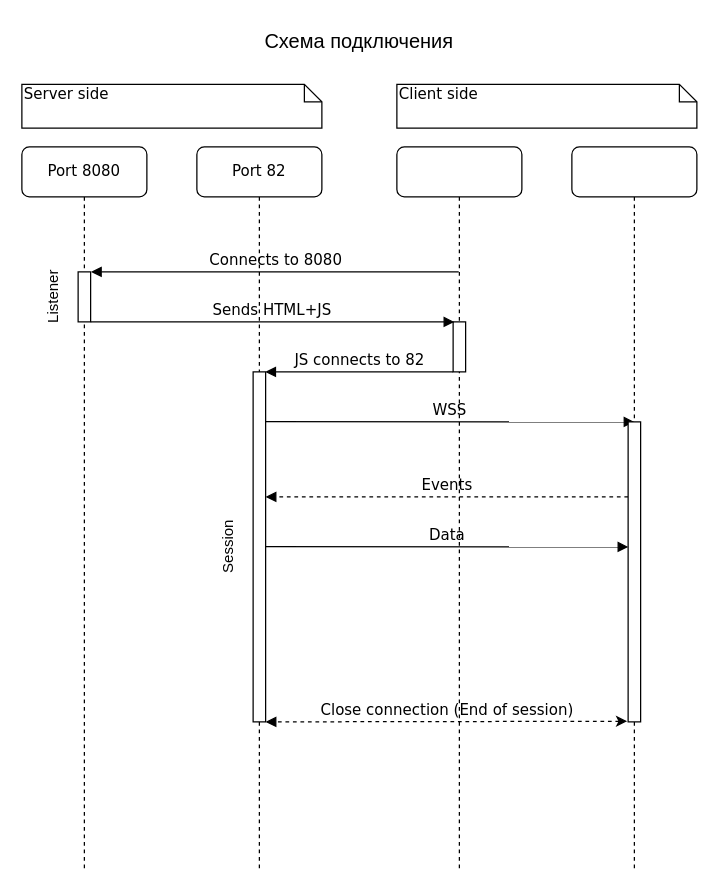
Some shapes in this 719 by 894 pixel diagram are drawn without their labels. Here are the shapes that lost their labels. From the top down, the box of each, then its label:
(396, 146, 522, 872): Client HTTP
(571, 146, 697, 872): Client WSS
